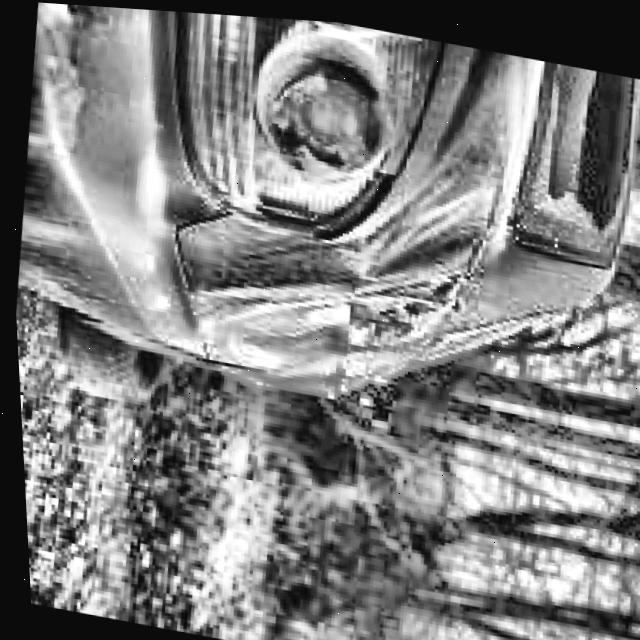tail_lamp: (167, 11, 444, 239)
